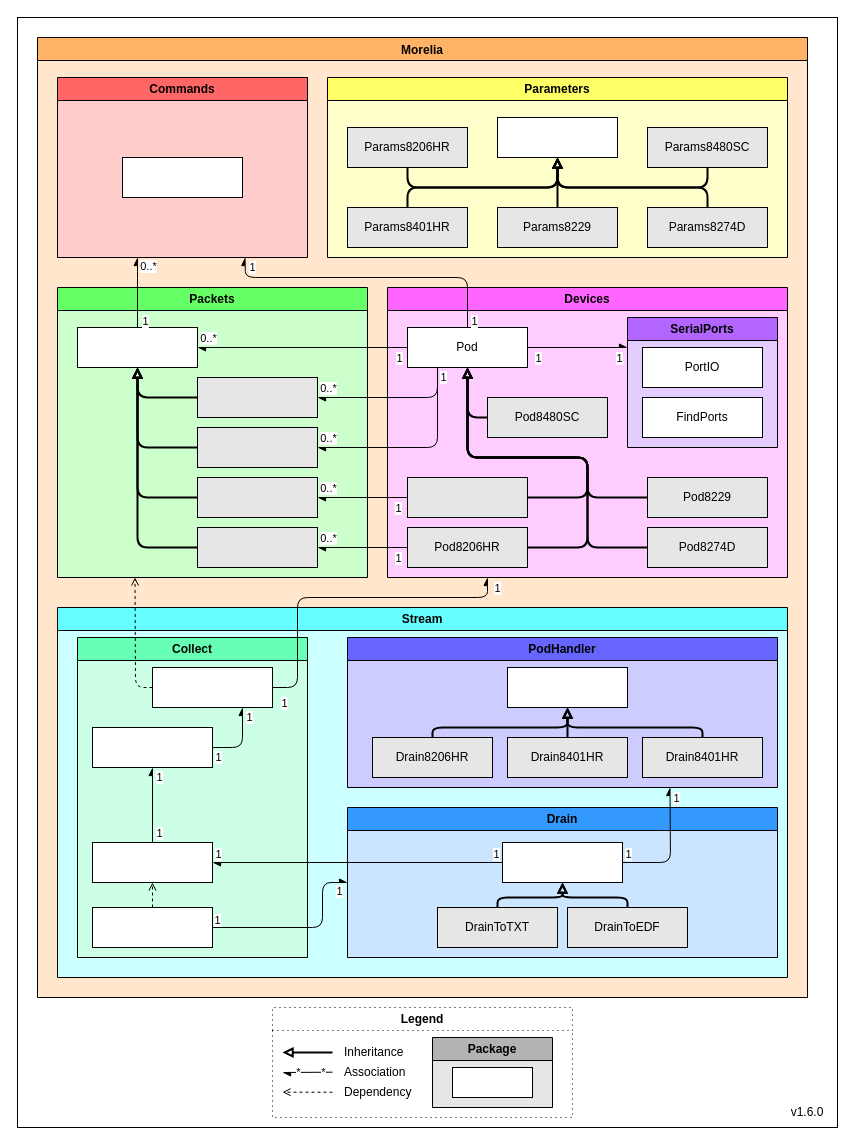
Image size: 855x1145. Some labels were removed from this diagram. The centre of each missing label's shape, as x and y in pixels:
"Bucket" belongs at point (152, 862).
"Class" belongs at point (492, 1082).
"CommandSet" belongs at point (182, 177).
"DrainBucket" belongs at point (152, 927).
"DrainDeviceHandler" belongs at point (567, 687).
"DrainToFile" belongs at point (562, 862).
"Hose" belongs at point (152, 747).
"Packet" belongs at point (137, 347).
"PacketBinary" belongs at point (257, 447).
"PacketBinary4" belongs at point (257, 547).
"PacketBinary5" belongs at point (257, 497).
"PacketStandard" belongs at point (257, 397).
"Params" belongs at point (557, 137).
"Pod8401HR" belongs at point (467, 497).
"Valve" belongs at point (212, 687).
